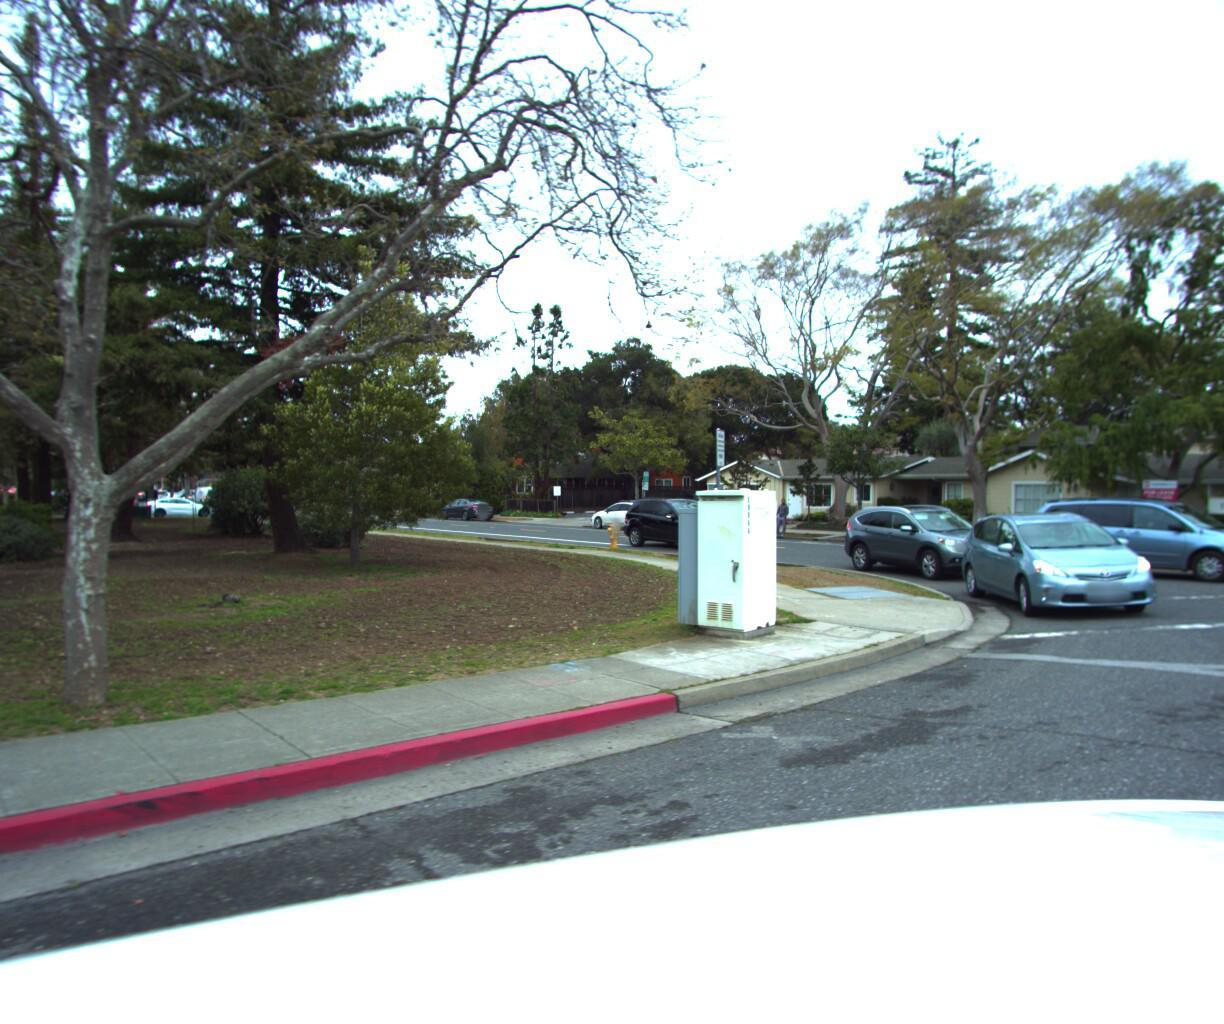car: (945, 506, 1191, 629), (1015, 491, 1224, 593), (829, 500, 1029, 586), (616, 493, 747, 557), (584, 496, 667, 530), (143, 495, 222, 517), (439, 495, 499, 520)
